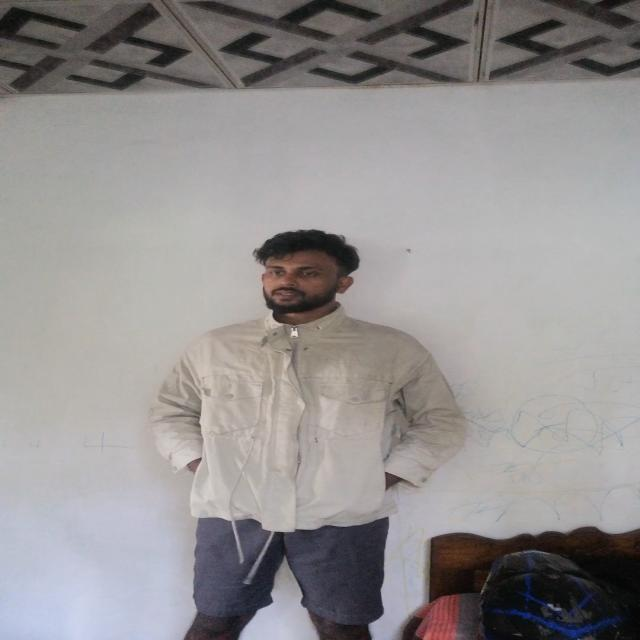Jacket_Wearer: (173, 314, 467, 541)
Person: (166, 222, 470, 640)
